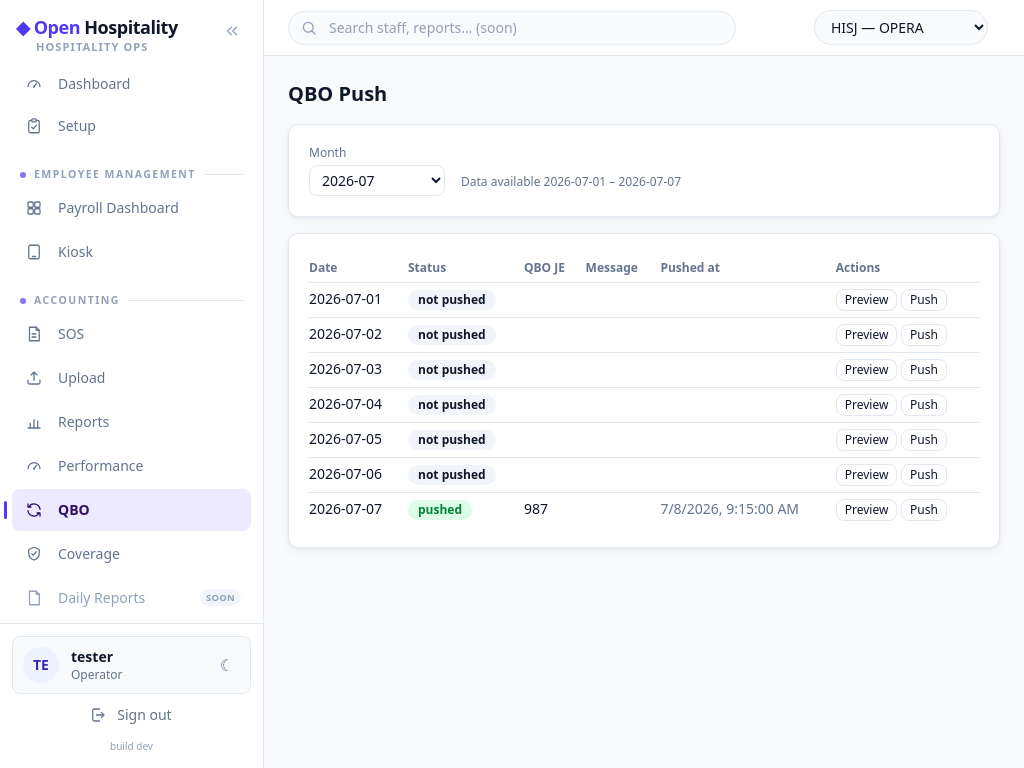
QboPage preview › renders a plain 422 detail as an error message, not a worklist
Click the button with aria-label "Preview 2026-07-07" at (867, 510), box [836, 499, 897, 521]
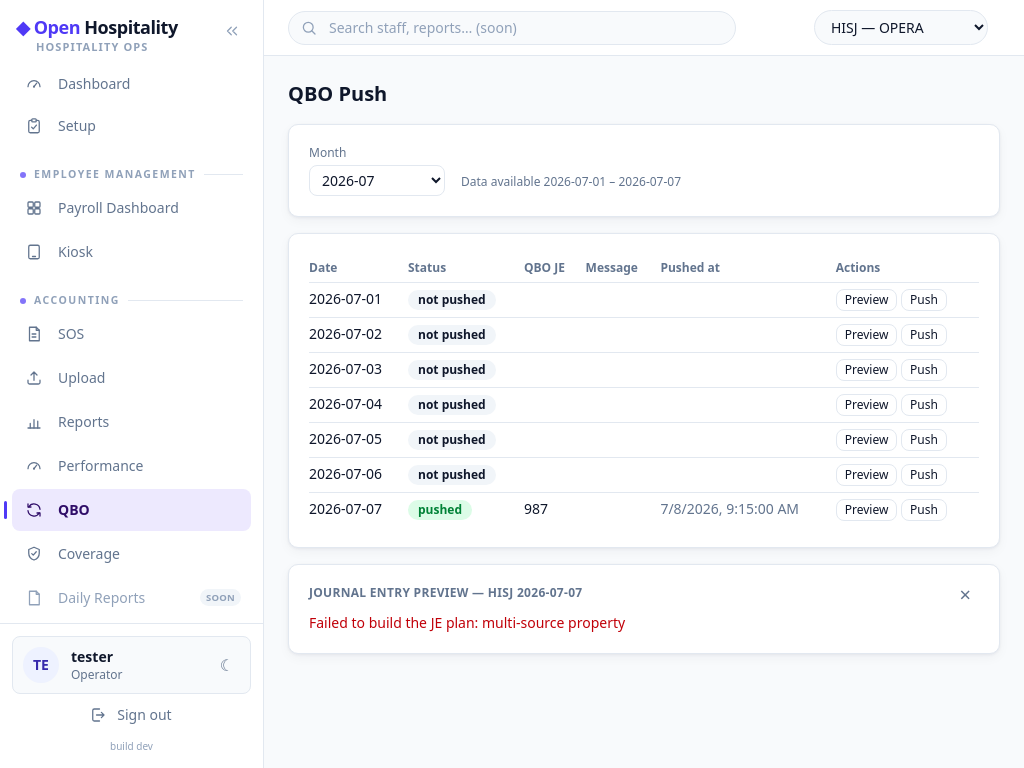
Expected: the text "Failed to build the JE plan: multi-source property" is shown, [309, 613, 625, 632]
